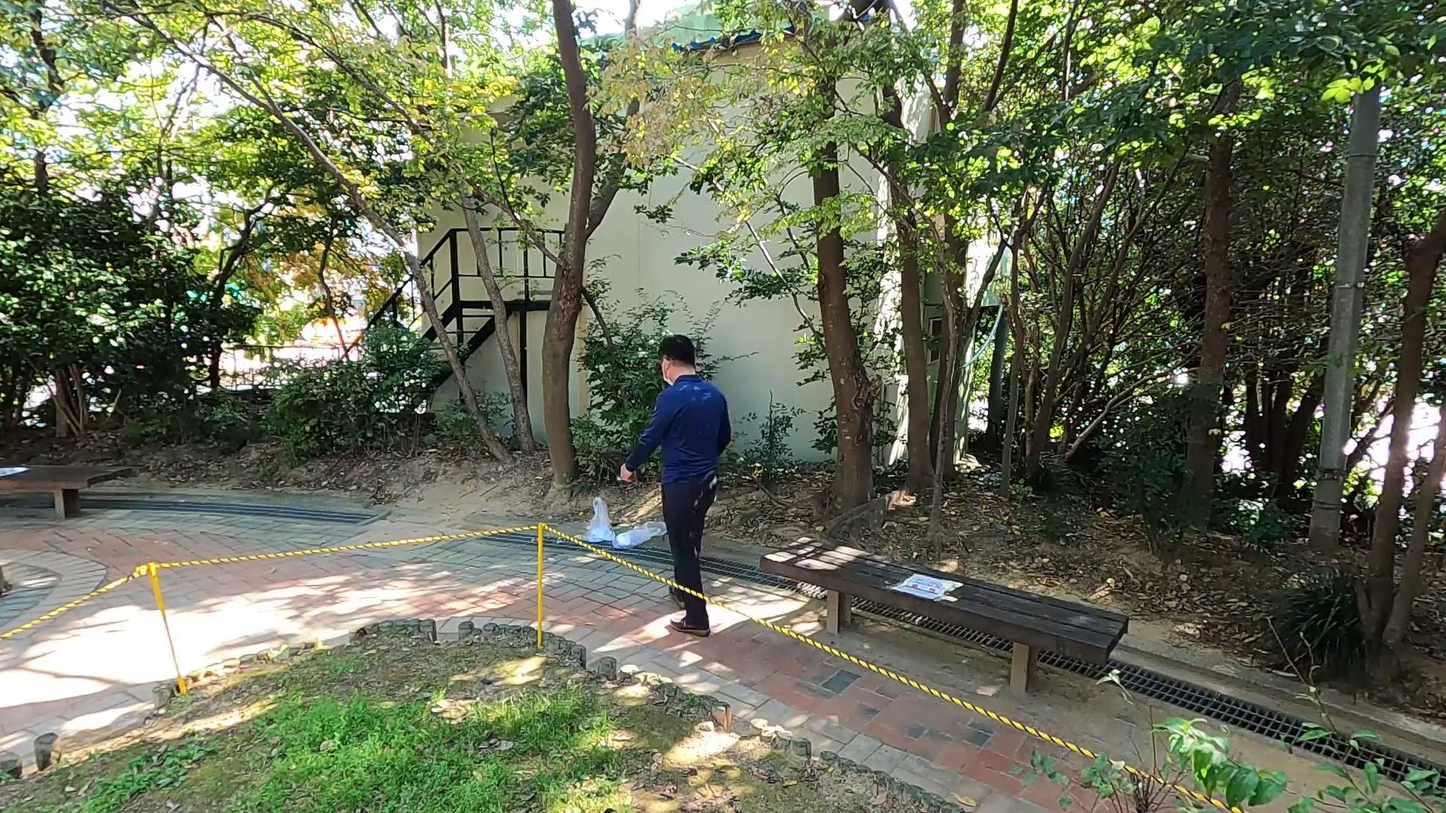person: (616, 332, 735, 638)
trash: (611, 519, 671, 549), (583, 494, 616, 547)
